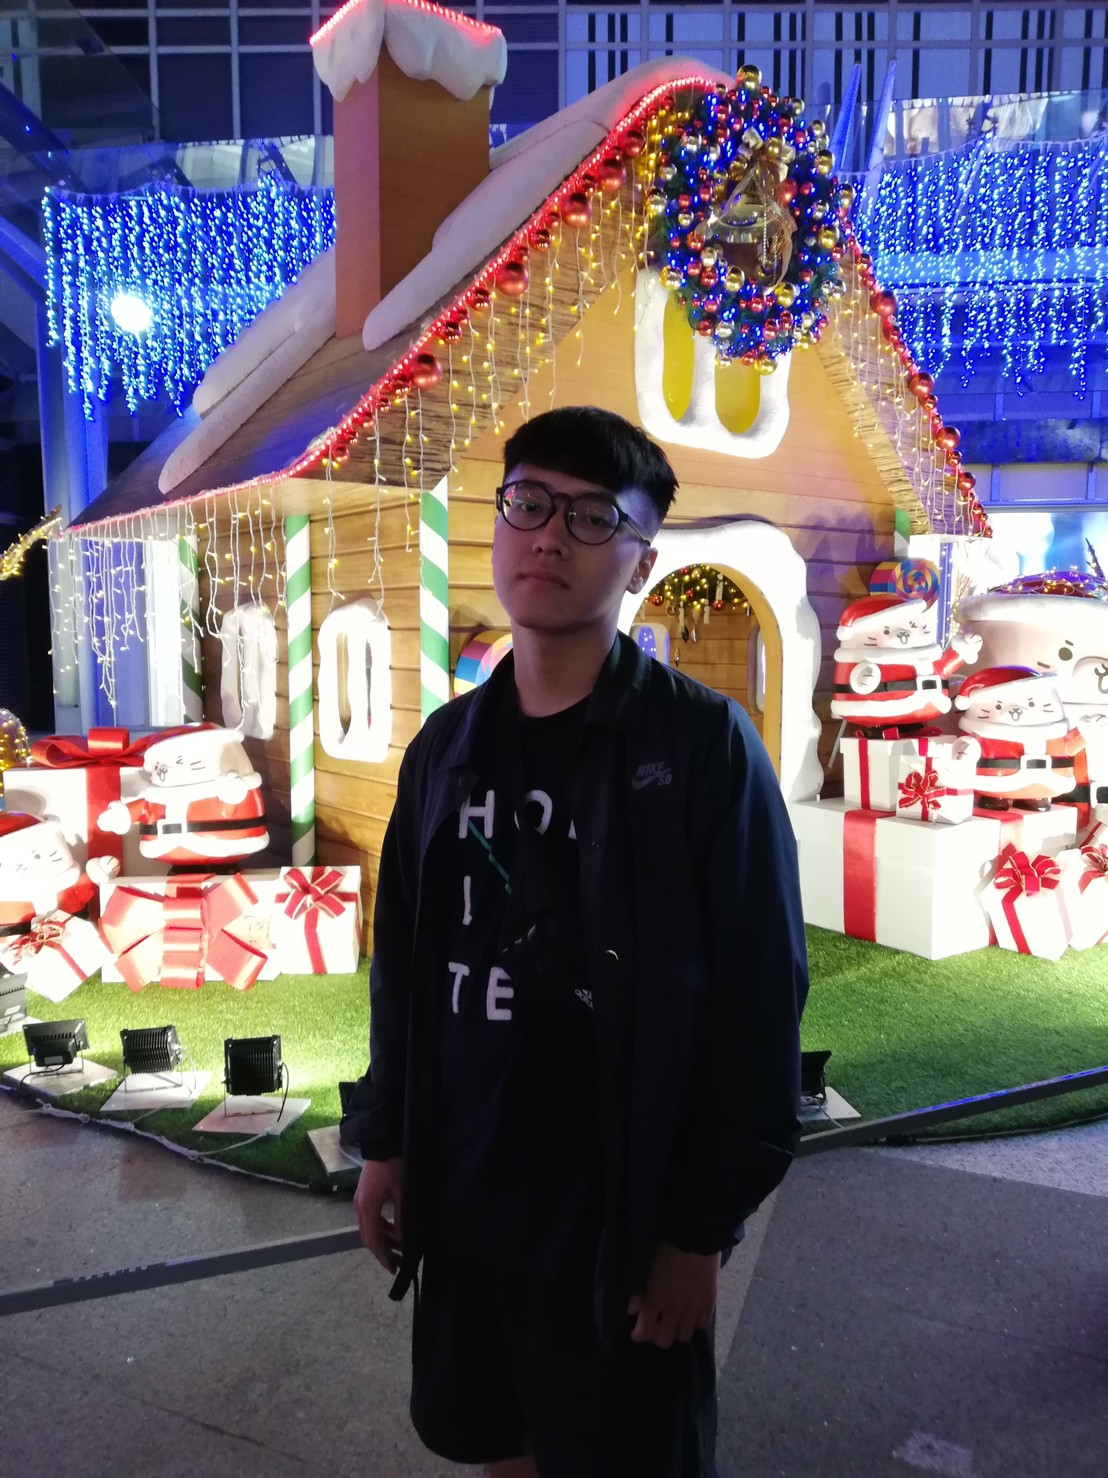people: (428, 412, 724, 1471)
